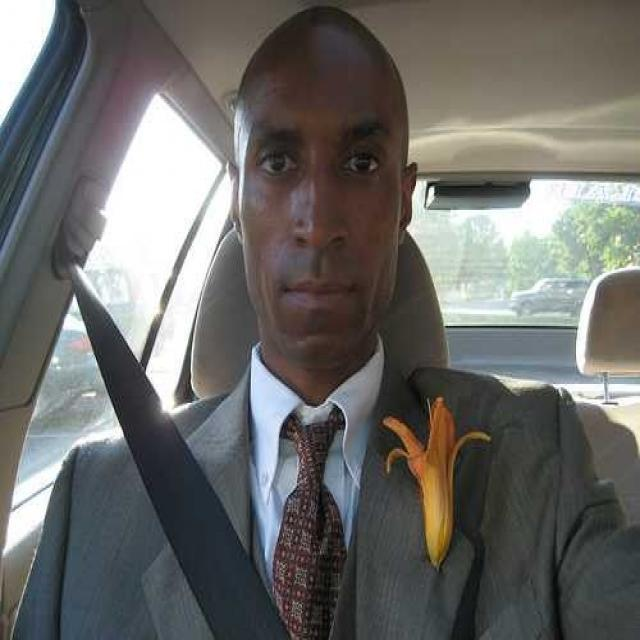seatbelt: (62, 242, 282, 625)
